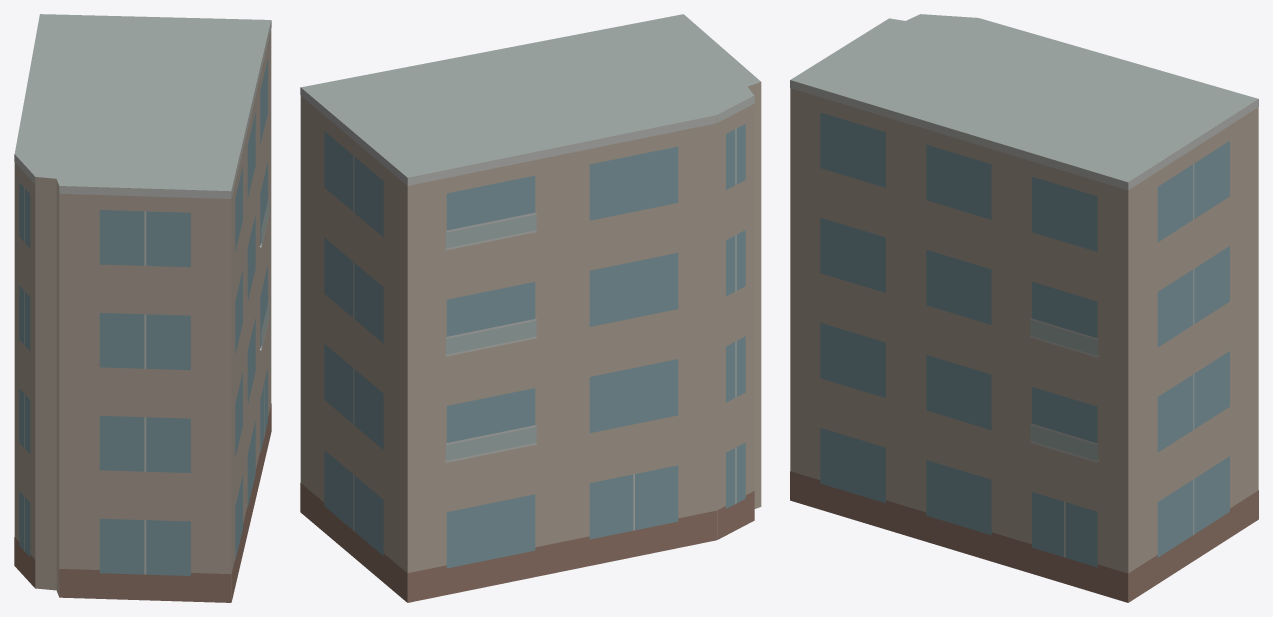
Rendered from survey-upis-32957744.glb.
The picture shows the model from 3 angles, left to right: view 1: azimuth 30°, elevation 25°; view 2: azimuth 150°, elevation 25°; view 3: azimuth 270°, elevation 25°; orthographic projection. The views are drawn at different scales.
Parts seen in each view (by area): view 1: survey-upis-32957744.tmp; view 2: survey-upis-32957744.tmp; view 3: survey-upis-32957744.tmp.
Boxes of the visible parts, bbox=[...] form: survey-upis-32957744.tmp: bbox=[14, 14, 271, 602]; survey-upis-32957744.tmp: bbox=[300, 14, 761, 602]; survey-upis-32957744.tmp: bbox=[790, 14, 1258, 602].
Size of the model in its own units: 11 by 12.8 by 12.94.
